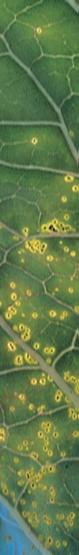Tomato leaf bacterial spot: (0, 5, 79, 555)
